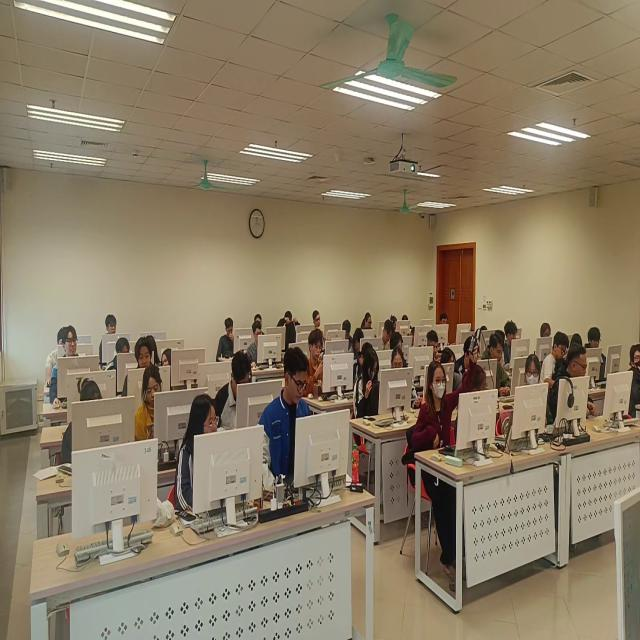raise_hand: (412, 323, 485, 490), (278, 309, 304, 359)
raise_head: (174, 388, 224, 522), (48, 324, 82, 406), (620, 326, 640, 422), (99, 309, 121, 363), (438, 309, 470, 346), (311, 302, 325, 338), (251, 312, 266, 327)
using_computer: (257, 346, 319, 499), (61, 374, 109, 480), (215, 349, 258, 446), (552, 341, 598, 430), (135, 365, 171, 445), (481, 323, 517, 401), (522, 345, 552, 436), (353, 346, 386, 428), (586, 328, 626, 389), (542, 331, 571, 390), (126, 337, 153, 396), (107, 338, 132, 393), (388, 342, 410, 404), (44, 325, 66, 386), (503, 316, 527, 371), (215, 312, 237, 363), (247, 321, 268, 374), (376, 314, 396, 359), (425, 321, 441, 368), (343, 311, 356, 356), (362, 309, 378, 344), (539, 314, 554, 351), (390, 304, 401, 335), (401, 304, 412, 333)
